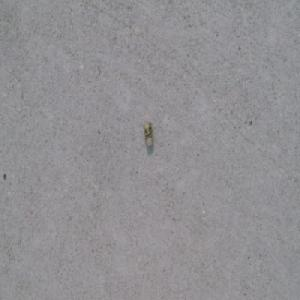BoltNutSet: (143, 121, 153, 148)
